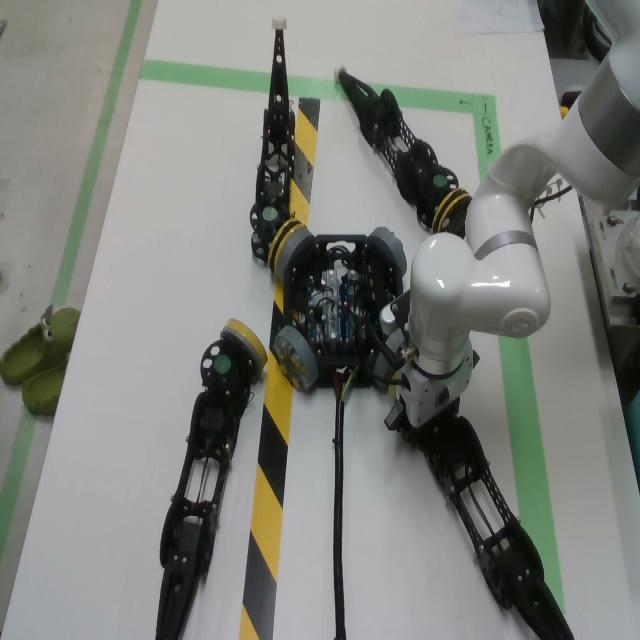body: (282, 235, 403, 389)
body_connector: (274, 325, 319, 392), (369, 227, 408, 277), (278, 228, 314, 277), (373, 352, 396, 393), (385, 328, 406, 357)
gripper: (385, 351, 480, 451)
leg: (155, 319, 268, 640), (416, 412, 575, 640), (333, 61, 472, 239), (249, 15, 306, 275)
leg_connector: (220, 319, 269, 371), (432, 188, 472, 240), (269, 219, 306, 273)
leg_marker: (214, 355, 231, 372), (263, 207, 278, 221), (433, 175, 447, 188)
